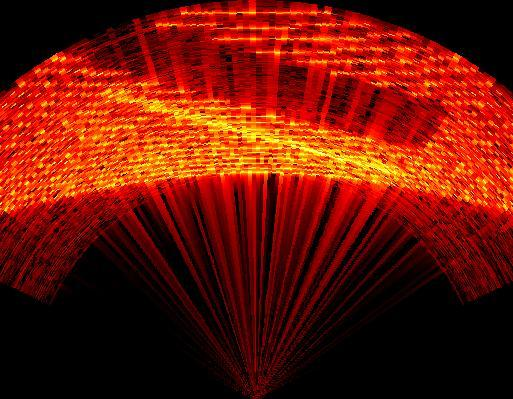pipe: (64, 17, 450, 150)
